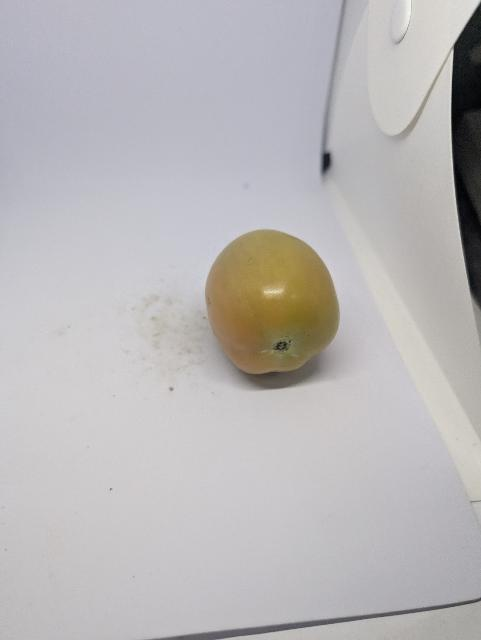breaker: (206, 230, 340, 374)
